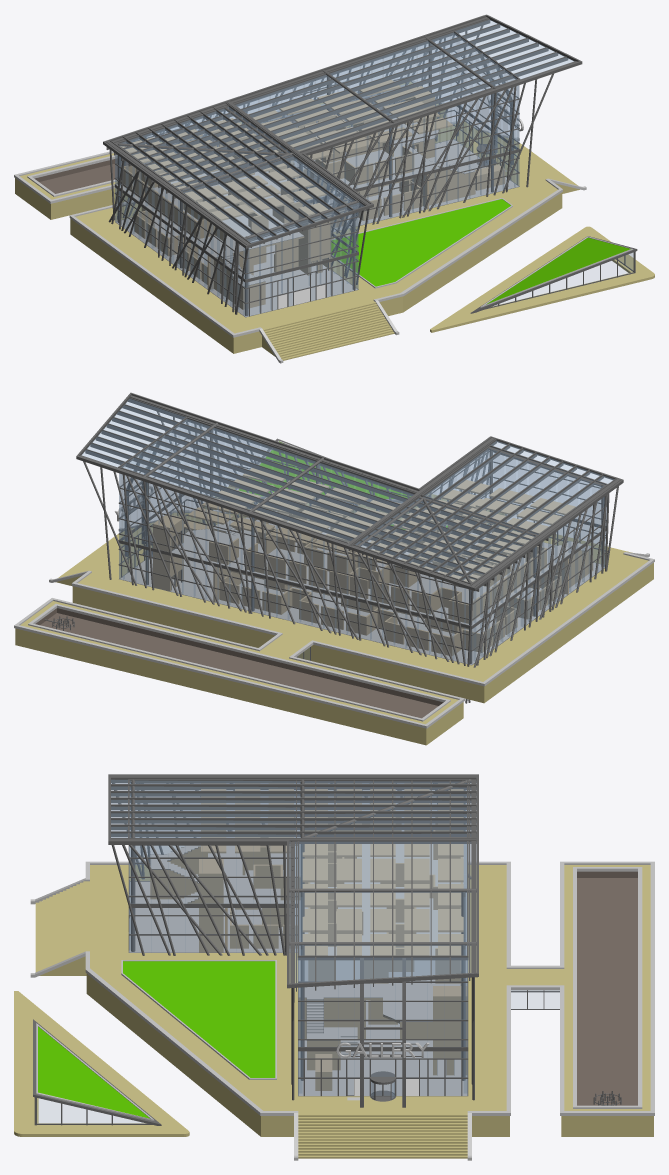
Rendered from Building.fbx.
The picture shows the model from 3 angles, top to bottom: view 1: azimuth 30°, elevation 25°; view 2: azimuth 150°, elevation 25°; view 3: azimuth 270°, elevation 25°; orthographic projection. The views are drawn at different scales.
Visible parts, largest first — view 1: SM_podium, SM_roof, SM_glasses, SM_wires_1, SM_outside_tubes, SM_ceiling_2, SM_small_roof, SM_gallery_wall_2, SM_entry_2, SM_stairs, SM_floor_2, SM_gallery_wall_1 (+2 smaller); view 2: SM_podium, SM_roof, SM_glasses, SM_outside_tubes, SM_wires_1, SM_ceiling_2, SM_gallery_wall_2, SM_gallery_wall_1, SM_floor_2, SM_lift_shafts, SM_entry, SM_stairs (+2 smaller); view 3: SM_podium, SM_roof, SM_glasses, SM_ceiling_2, SM_wires_1, SM_floor_2, SM_small_roof, SM_outside_tubes, SM_entry, SM_stairs, SM_gallery_wall_2, SM_lift_shafts (+6 smaller).
Boxes of the visible parts, x1,y1,x2,y2 form: SM_podium: [14, 80, 654, 363]; SM_roof: [103, 14, 582, 248]; SM_glasses: [115, 35, 519, 316]; SM_wires_1: [114, 30, 520, 317]; SM_outside_tubes: [108, 25, 553, 314]; SM_ceiling_2: [120, 80, 452, 220]; SM_small_roof: [470, 236, 637, 313]; SM_gallery_wall_2: [123, 115, 414, 240]; SM_entry_2: [245, 215, 358, 316]; SM_stairs: [207, 161, 475, 309]; SM_floor_2: [116, 118, 439, 258]; SM_gallery_wall_1: [134, 180, 422, 284]; SM_podium: [14, 486, 654, 745]; SM_roof: [76, 392, 623, 591]; SM_glasses: [119, 421, 606, 664]; SM_outside_tubes: [83, 411, 618, 703]; SM_wires_1: [118, 417, 607, 665]; SM_ceiling_2: [188, 468, 575, 582]; SM_gallery_wall_2: [209, 506, 546, 623]; SM_gallery_wall_1: [219, 573, 561, 655]; SM_floor_2: [172, 520, 571, 625]; SM_lift_shafts: [153, 498, 486, 591]; SM_entry: [119, 422, 187, 578]; SM_stairs: [213, 517, 593, 602]; SM_podium: [14, 861, 654, 1160]; SM_roof: [108, 774, 478, 991]; SM_glasses: [129, 790, 467, 1093]; SM_ceiling_2: [201, 783, 463, 955]; SM_wires_1: [128, 779, 476, 1096]; SM_floor_2: [208, 837, 466, 1023]; SM_small_roof: [33, 1019, 161, 1125]; SM_outside_tubes: [111, 783, 474, 1100]; SM_entry: [298, 1051, 467, 1096]; SM_stairs: [150, 845, 432, 1070]; SM_gallery_wall_2: [242, 817, 462, 985]; SM_lift_shafts: [199, 859, 466, 1075].
Size of the model in its own units: 7670 by 2538 by 7567.
